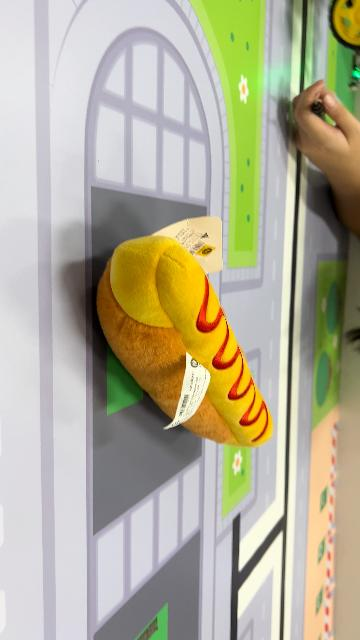hotdog: (96, 235, 276, 450)
